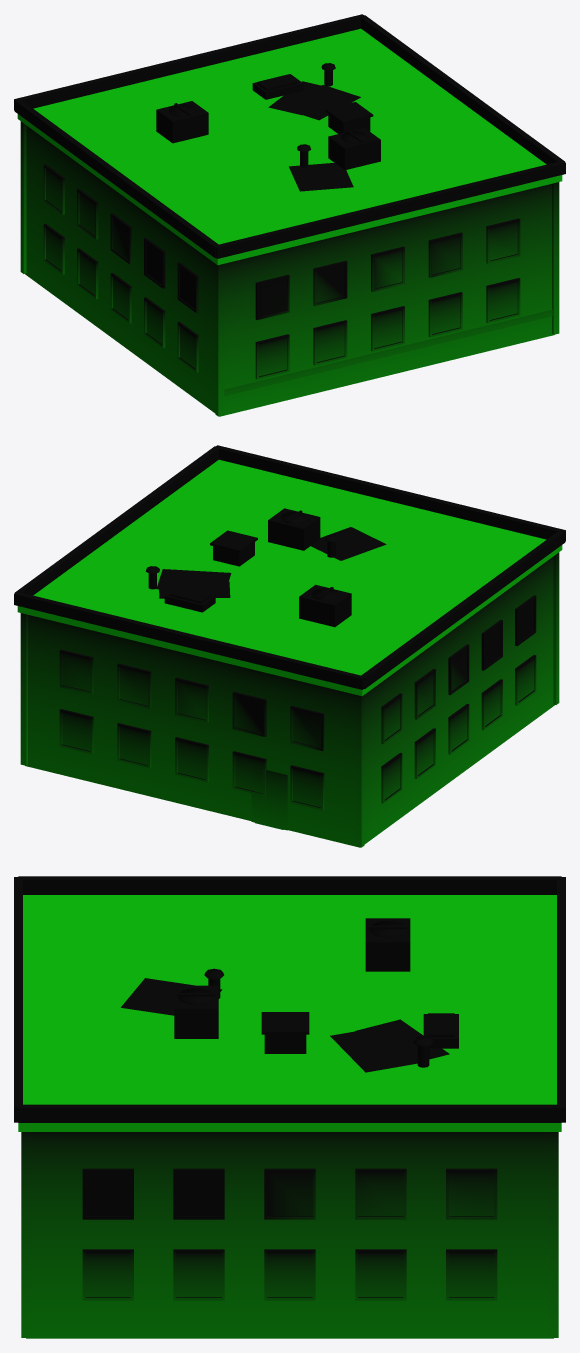
File: city2storyb.glb
The picture shows the model from 3 angles, top to bottom: view 1: azimuth 30°, elevation 25°; view 2: azimuth 150°, elevation 25°; view 3: azimuth 270°, elevation 25°; orthographic projection. The views are drawn at different scales.
Parts seen in each view (by area): view 1: lod0; view 2: lod0; view 3: lod0.
Part boxes in pixels (x1,y1,x2,y2): lod0: (14,14,565,416); lod0: (14,445,565,847); lod0: (14,876,565,1338).
Size of what is drawn, in the model's own units: 18.5 by 9.44 by 18.6.
